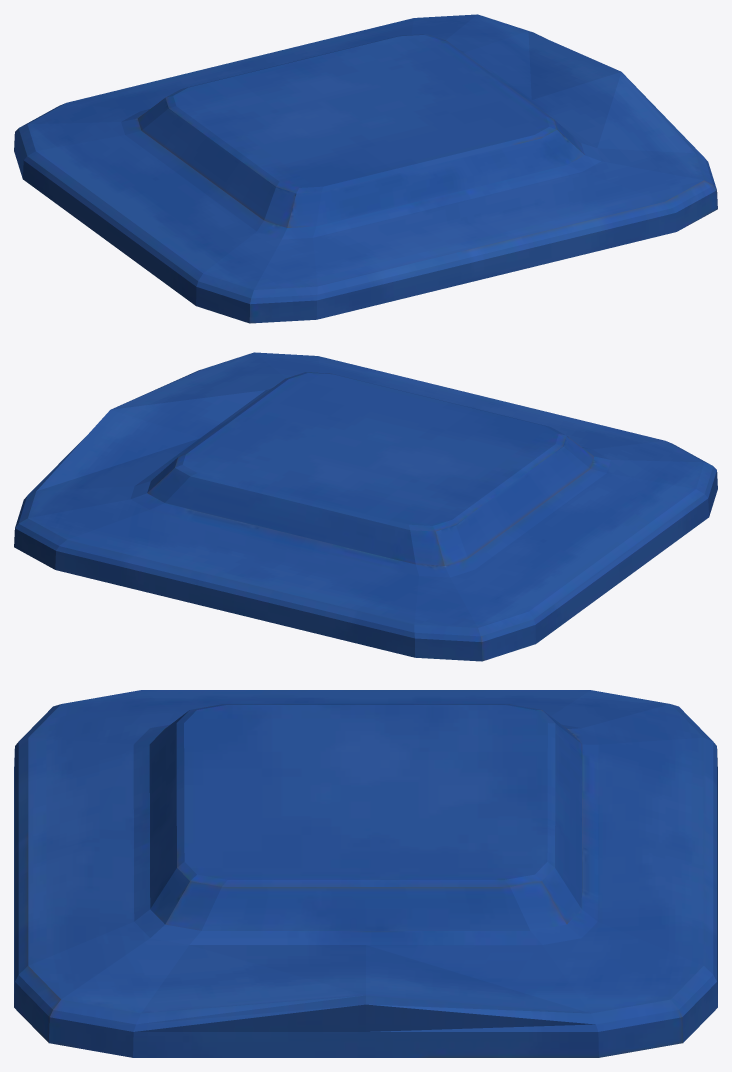
The model's file is strProp_46.glb.
3 renders of one model, top to bottom at view 1: azimuth 30°, elevation 25°; view 2: azimuth 150°, elevation 25°; view 3: azimuth 270°, elevation 25°, orthographic. The views are drawn at different scales.
Parts seen in each view (by area): view 1: geometry_0; view 2: geometry_0; view 3: geometry_0.
Part boxes in pixels (x1=…): geometry_0: x1=14, y1=14, x2=717, y2=323; geometry_0: x1=14, y1=352, x2=717, y2=661; geometry_0: x1=14, y1=690, x2=717, y2=1057.
Size of the model in its own units: 0.6011 by 0.0779 by 0.529.
1 material, 1 textured.
